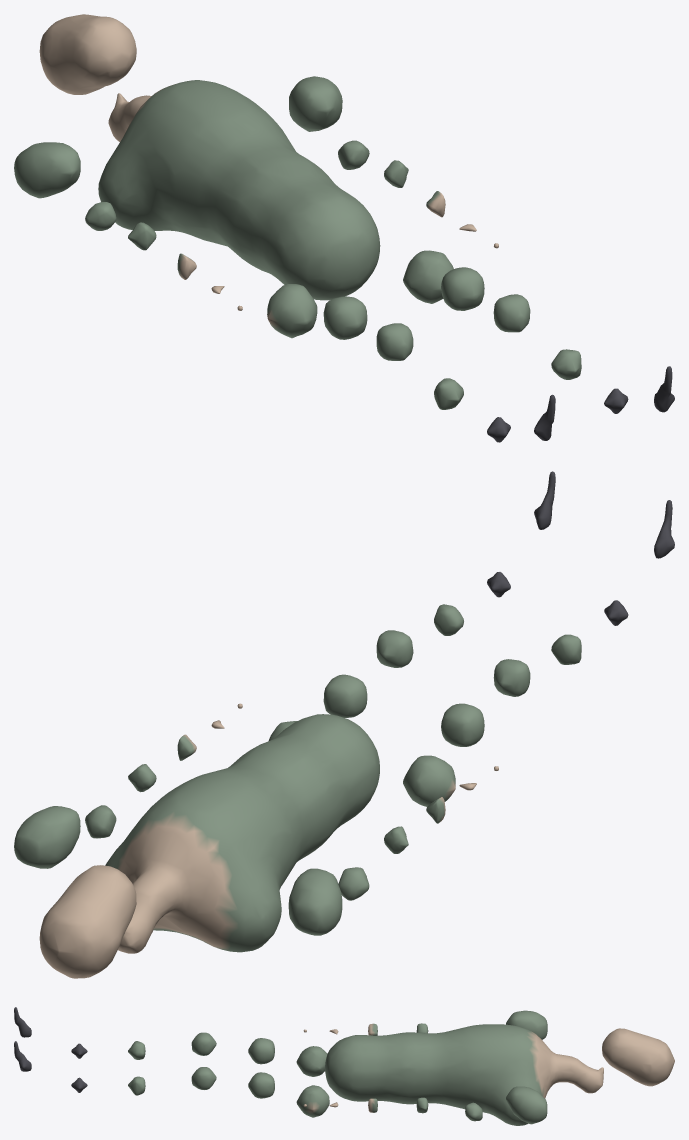
The model's file is humanoid.glb.
3 views of the same model, one above another, from view 1: azimuth 30°, elevation 25°; view 2: azimuth 150°, elevation 25°; view 3: azimuth 270°, elevation 25° (orthographic). The views are drawn at different scales.
Parts seen in each view (by area): view 1: Humanoid; view 2: Humanoid; view 3: Humanoid.
Boxes of the visible parts, x1,y1,x2,y2 form: Humanoid: (14,14,674,442); Humanoid: (14,471,674,978); Humanoid: (14,1007,674,1125).
Bounding box in the file's own units: 0.6002 × 0.2566 × 1.81.
